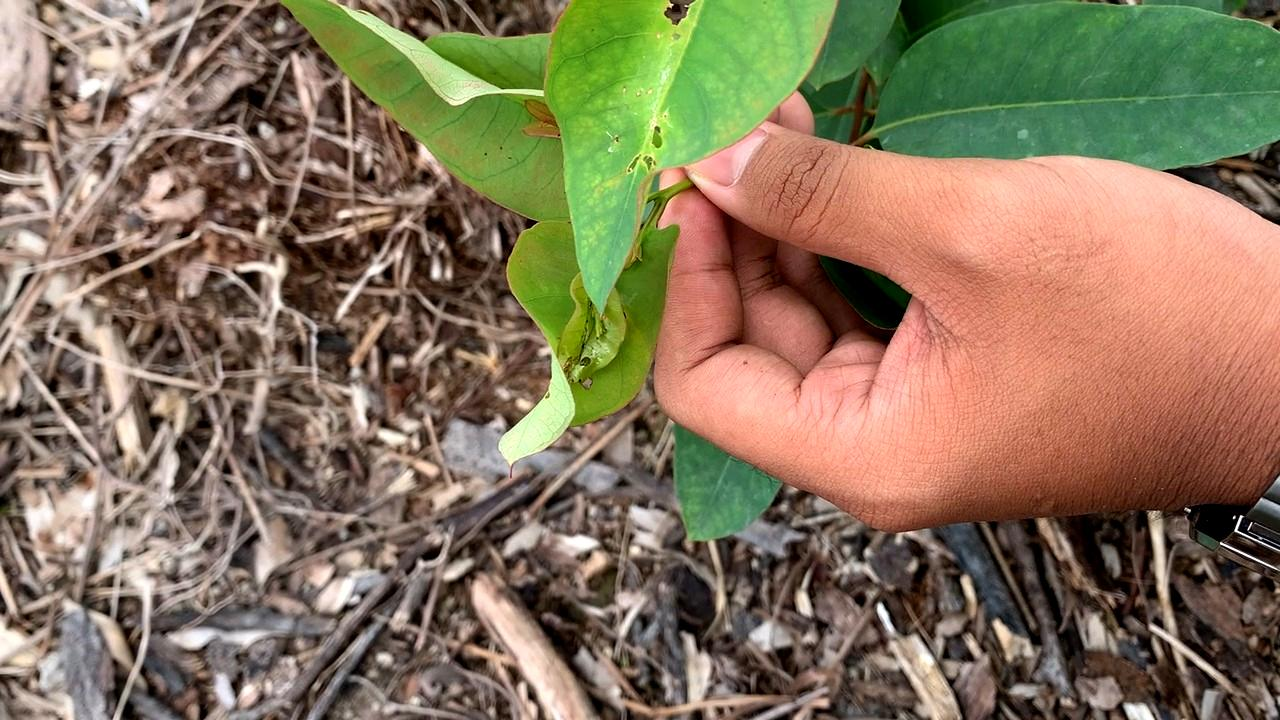Leaf Roller - Leaf: (536, 242, 656, 425)
